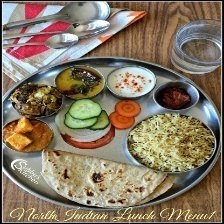sabzi: (12, 85, 64, 114)
